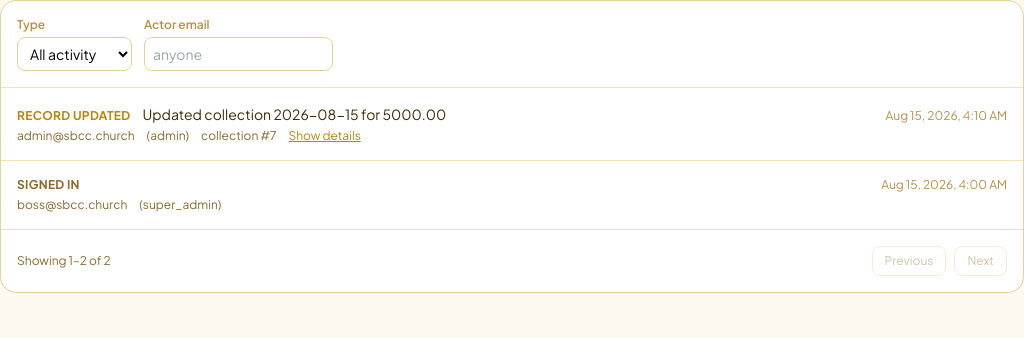
it: hides the diff until the entry is expanded
The width and height of the screenshot is (1024, 338).
Expected: the text "Updated collection 2026-08-15 for 5000.00" is shown, [142,104,446,124]
Expected: the text "Sunday Worship" is not shown
Click the button with aria-label "details for entry 2": {"x": 325, "y": 136} [288,128,361,144]
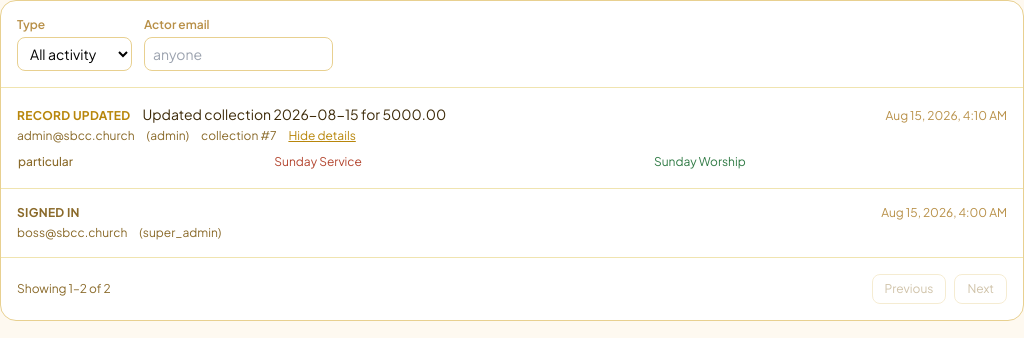
Result: the text "Sunday Service" is shown at [273,152,653,172]
Result: the text "Sunday Worship" is shown at [653,152,1007,172]
